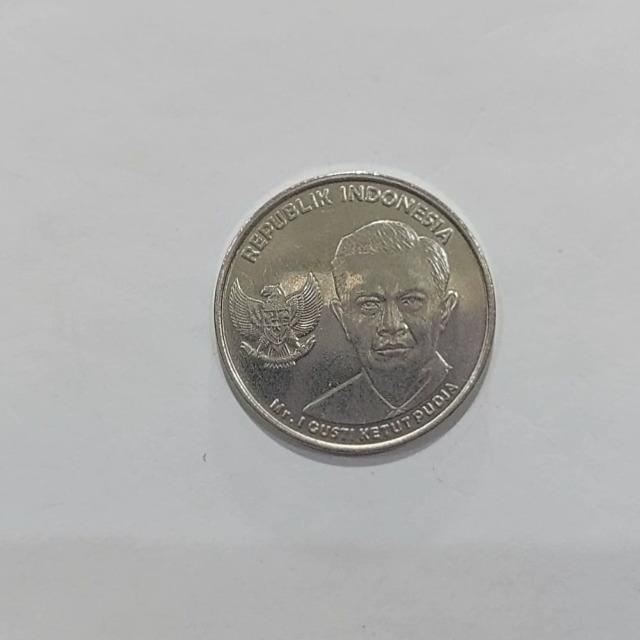Rp100: (212, 169, 497, 459), (294, 217, 462, 430)
